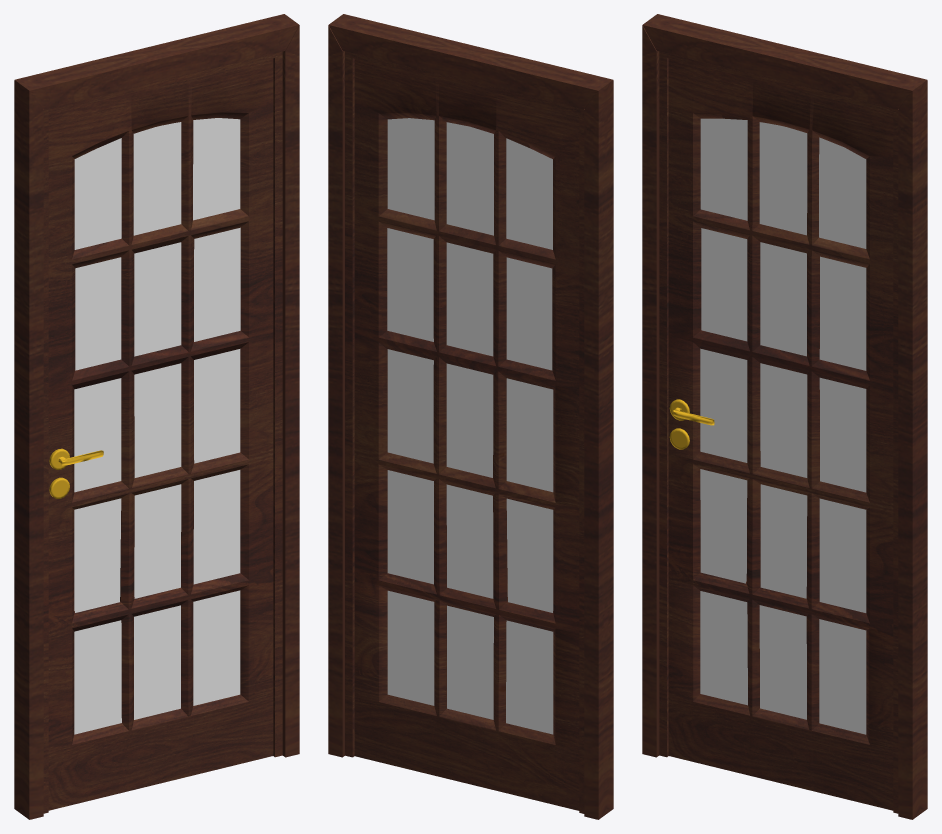
The model's file is PUERTA1_CALIFORNIA.glb.
3 renders of one model, left to right at view 1: azimuth 30°, elevation 25°; view 2: azimuth 150°, elevation 25°; view 3: azimuth 330°, elevation 25°, orthographic.
Visible parts, largest first — view 1: Puerta1, Puerta1_cristales, Puerta1_marco, Puerta1_cerradura; view 2: Puerta1, Puerta1_cristales, Puerta1_marco; view 3: Puerta1, Puerta1_cristales, Puerta1_marco, Puerta1_cerradura.
Boxes of the visible parts, <box> form: Puerta1: <box>43,51,282,813</box>; Puerta1_cristales: <box>74,118,240,734</box>; Puerta1_marco: <box>14,14,299,819</box>; Puerta1_cerradura: <box>49,448,103,498</box>; Puerta1: <box>345,51,584,813</box>; Puerta1_cristales: <box>387,118,553,734</box>; Puerta1_marco: <box>328,14,613,819</box>; Puerta1: <box>659,51,898,813</box>; Puerta1_cristales: <box>700,118,866,734</box>; Puerta1_marco: <box>642,14,927,819</box>; Puerta1_cerradura: <box>669,399,714,449</box>.
Size of the model in its own units: 769 by 1983 by 85.
3 materials, 1 textured.
